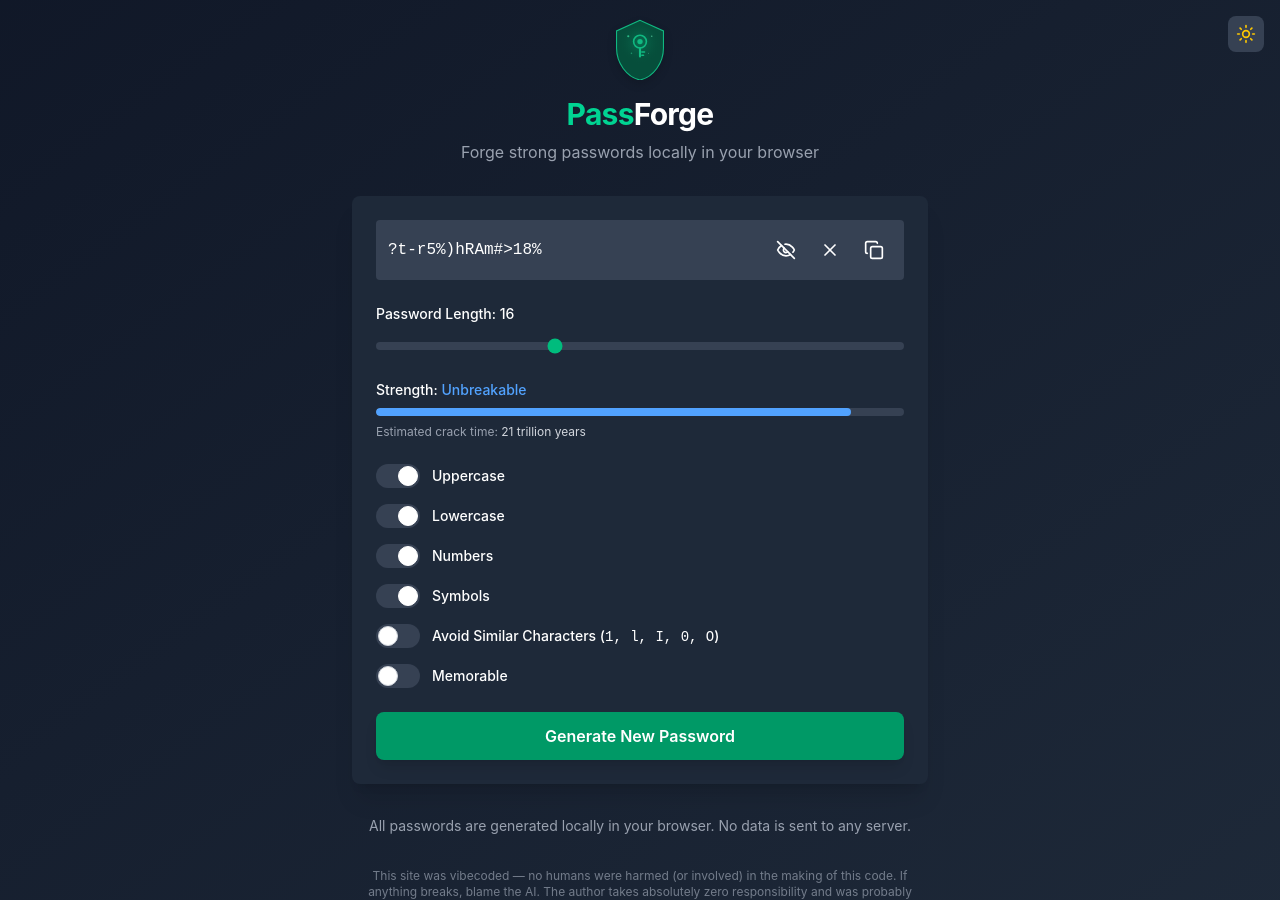
Test case: App component › clears the password when clear button is clicked
Expected: the field with placeholder "Generated password will appear here" is not empty, [388, 238, 760, 262]
Click the button titled "Clear password" at point(830, 250), box [812, 232, 848, 268]
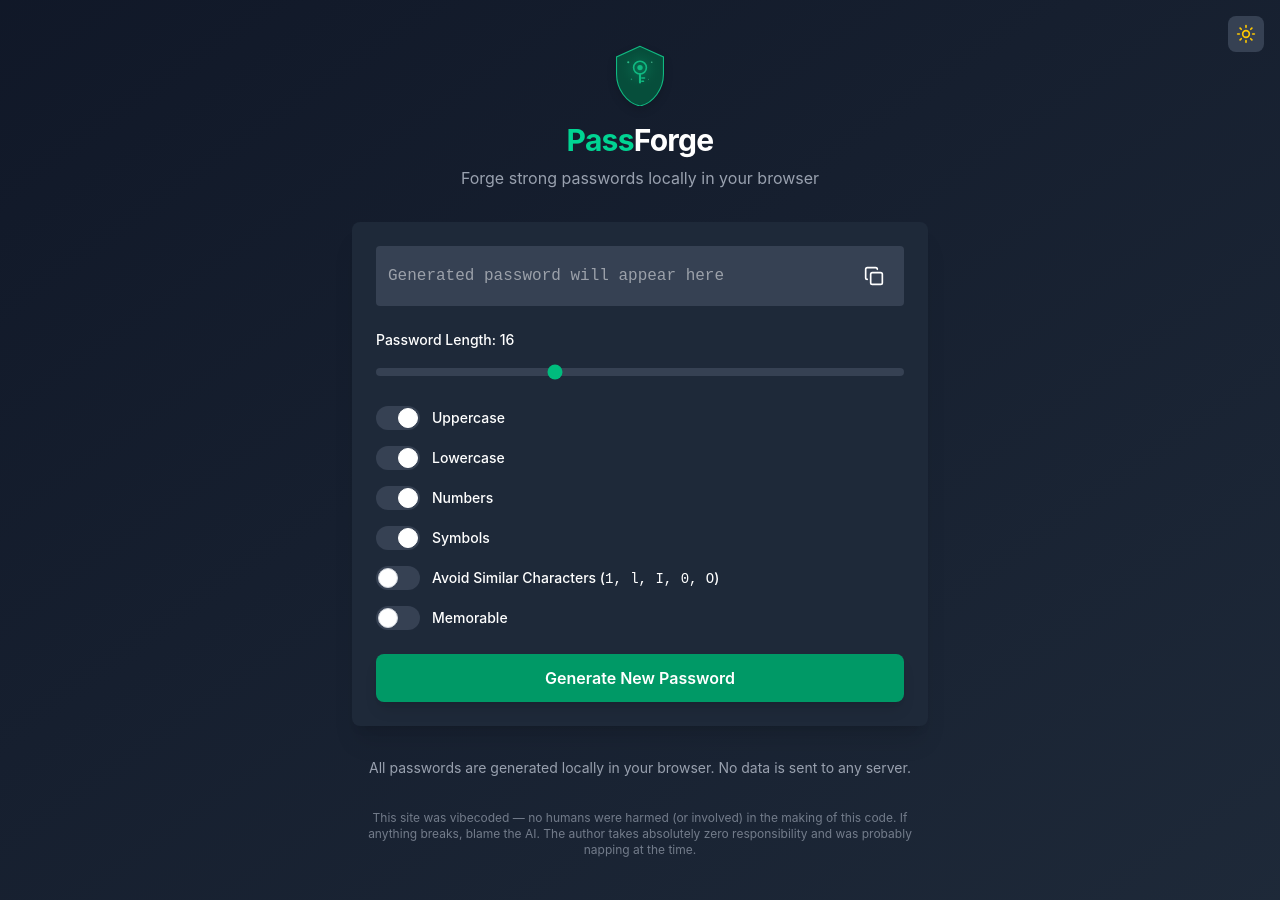
Result: the field with placeholder "Generated password will appear here" is empty at [388, 264, 848, 288]
